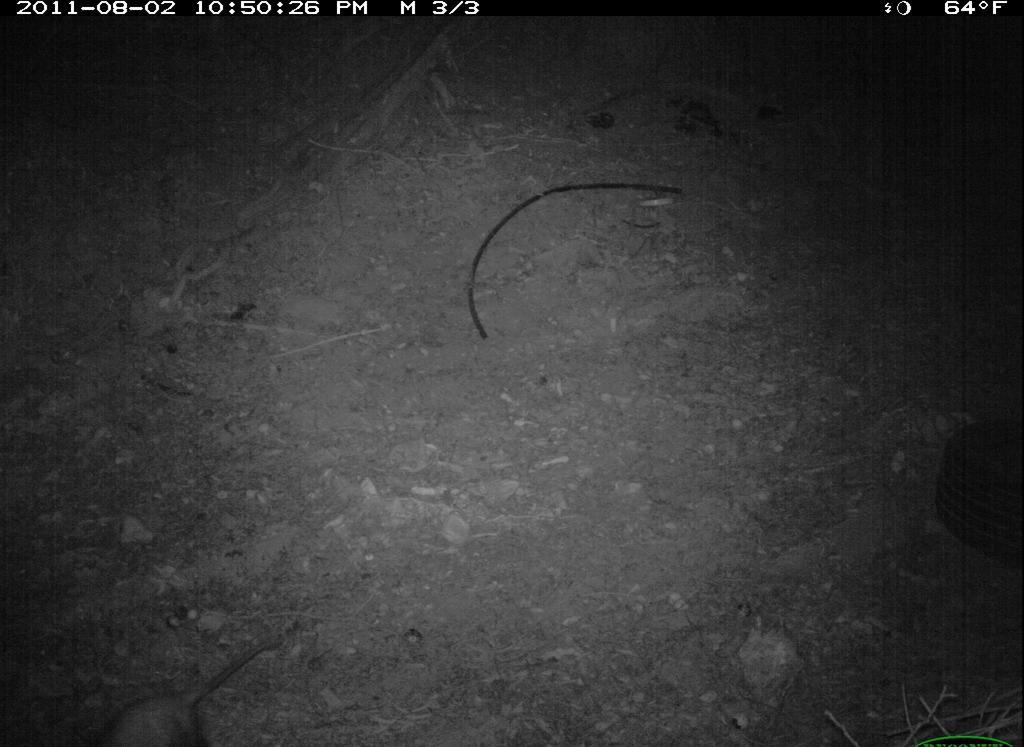opossum: (97, 623, 297, 747)
